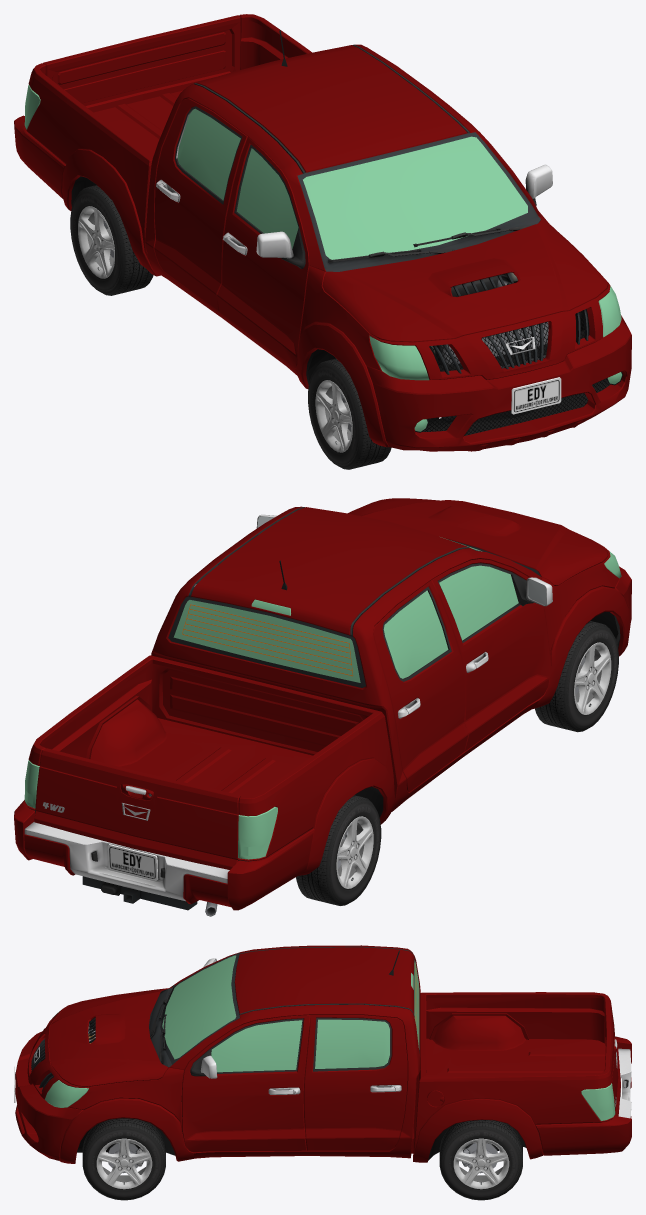
File: JPickup.fbx
The picture shows the model from 3 angles, top to bottom: view 1: azimuth 30°, elevation 25°; view 2: azimuth 150°, elevation 25°; view 3: azimuth 270°, elevation 25°; orthographic projection. The views are drawn at different scales.
Parts seen in each view (by area): view 1: JPickupChassis, Hood, WindscreenGlass, FFender, Tailgate, FRDoor, RRDoor, Grill, FRWing, JP_Tire_RR, JP_Tire_FR, RRDoorGLass (+8 smaller); view 2: JPickupChassis, Tailgate, RFender, FRDoor, Hood, RRDoor, RearWindowGlass, JP_Tire_RR, JP_Tire_FR, FRWing, RFDoorGlass, RRDoorGLass (+4 smaller); view 3: JPickupChassis, FLDoor, RLDoor, Hood, FLWing, JP_Tire_FL, JP_Tire_RL, WindscreenGlass, RFender, LFDoorGlass, LRDoorGlass, FFender (+7 smaller).
Boxes of the visible parts, x1,y1,x2,y2 form: JPickupChassis: (25, 14, 609, 435); Hood: (322, 219, 607, 342); WindscreenGlass: (303, 136, 527, 259); FFender: (366, 315, 631, 451); Tailgate: (42, 15, 240, 112); FRDoor: (217, 137, 309, 368); RRDoor: (154, 98, 247, 310); Grill: (370, 279, 610, 379); FRWing: (295, 266, 389, 447); JP_Tire_RR: (70, 185, 153, 295); JP_Tire_FR: (308, 358, 391, 469); RRDoorGLass: (177, 108, 240, 200); JPickupChassis: (24, 506, 620, 916); Tailgate: (34, 748, 240, 869); RFender: (14, 800, 314, 910); FRDoor: (431, 559, 550, 751); Hood: (347, 498, 607, 585); RRDoor: (372, 580, 468, 791); RearWindowGlass: (173, 600, 360, 682); JP_Tire_RR: (296, 795, 381, 905); JP_Tire_FR: (535, 621, 618, 732); FRWing: (533, 562, 630, 708); RFDoorGlass: (439, 565, 518, 640); RRDoorGLass: (383, 590, 448, 678); JPickupChassis: (44, 945, 615, 1162); FLDoor: (181, 1015, 310, 1152); RLDoor: (303, 1015, 407, 1150); Hood: (48, 988, 168, 1086); FLWing: (59, 1067, 194, 1163); JP_Tire_FL: (82, 1118, 165, 1200); JP_Tire_RL: (439, 1120, 522, 1200); WindscreenGlass: (162, 955, 236, 1059); RFender: (535, 1036, 631, 1155); LFDoorGlass: (211, 1020, 302, 1072); LRDoorGlass: (315, 1019, 389, 1068); FFender: (15, 1031, 83, 1160).
Bounding box in the file's own units: 2.04 × 1.8 × 4.96.
